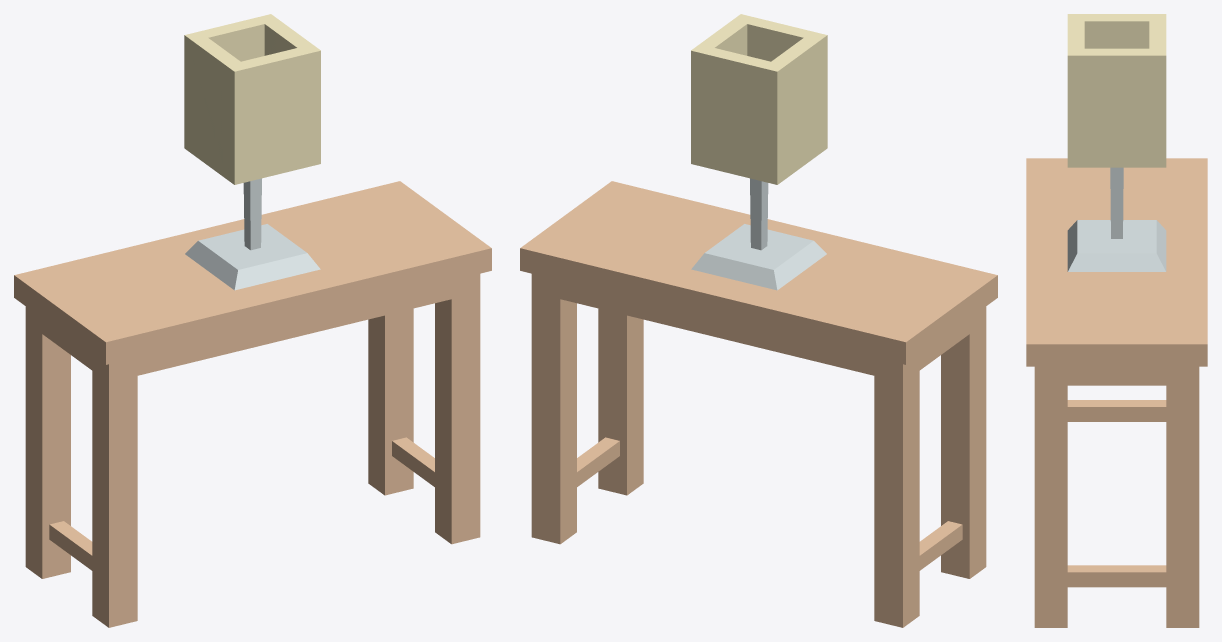
The model's file is tableLampSquare.glb.
The picture shows the model from 3 angles, left to right: view 1: azimuth 30°, elevation 25°; view 2: azimuth 150°, elevation 25°; view 3: azimuth 270°, elevation 25°; orthographic projection.
Parts seen in each view (by area): view 1: sideTable(Clone), lampSquareTable(Clone); view 2: sideTable(Clone), lampSquareTable(Clone); view 3: sideTable(Clone), lampSquareTable(Clone).
Part boxes in pixels (<box>): sideTable(Clone): <box>14,181,491,627</box>; lampSquareTable(Clone): <box>184,14,320,290</box>; sideTable(Clone): <box>520,181,997,627</box>; lampSquareTable(Clone): <box>691,14,827,290</box>; sideTable(Clone): <box>1026,158,1207,627</box>; lampSquareTable(Clone): <box>1067,14,1166,271</box>.
Size of the model in its own units: 0.5345 by 0.674 by 0.22.
